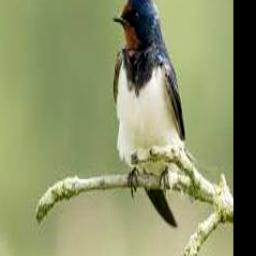Swallow: (111, 0, 184, 228)
